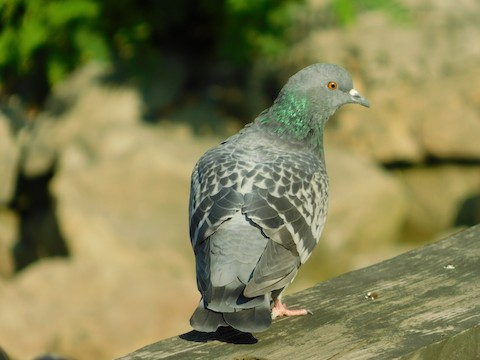pigeon: (180, 56, 377, 339)
